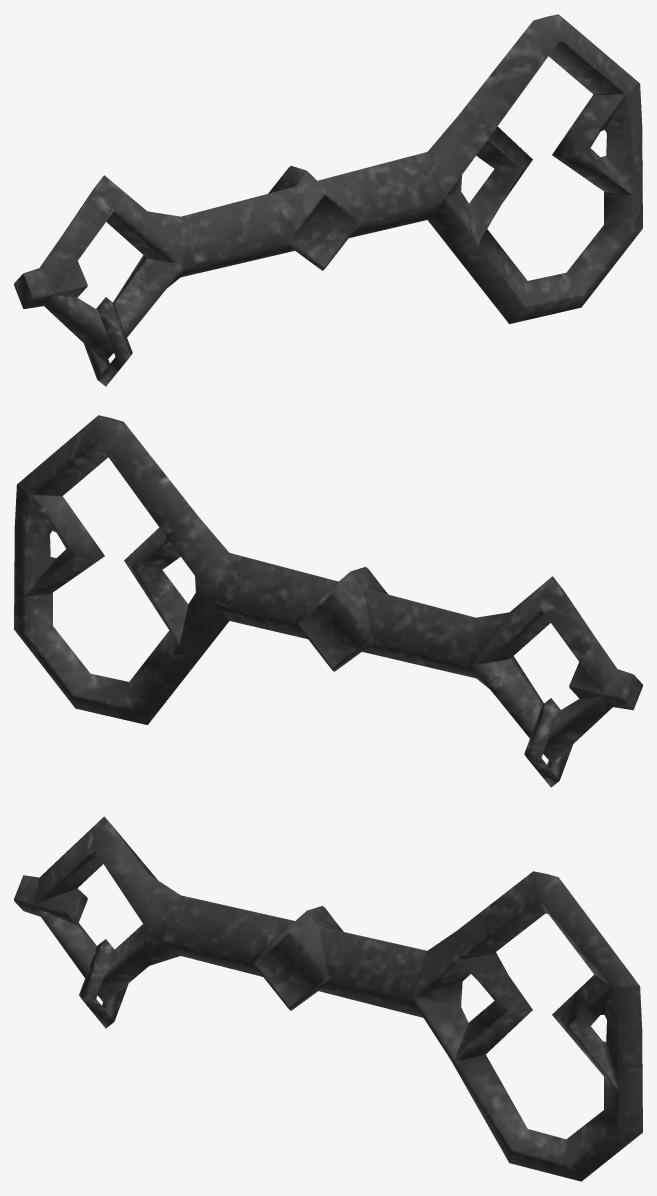
The model's file is key1.fbx.
The picture shows the model from 3 angles, top to bottom: view 1: azimuth 30°, elevation 25°; view 2: azimuth 150°, elevation 25°; view 3: azimuth 330°, elevation 25°; orthographic projection.
Parts seen in each view (by area): view 1: Key, Torus; view 2: Key, Torus; view 3: Key, Torus.
Boxes of the visible parts, x1,y1,x2,y2 form: Key: (14, 14, 642, 362); Torus: (84, 297, 132, 386); Key: (14, 415, 642, 763); Torus: (524, 698, 572, 787); Key: (14, 816, 642, 1181); Torus: (79, 939, 128, 1028).
Bounding box in the file's own units: 496 × 229 × 63.61.
